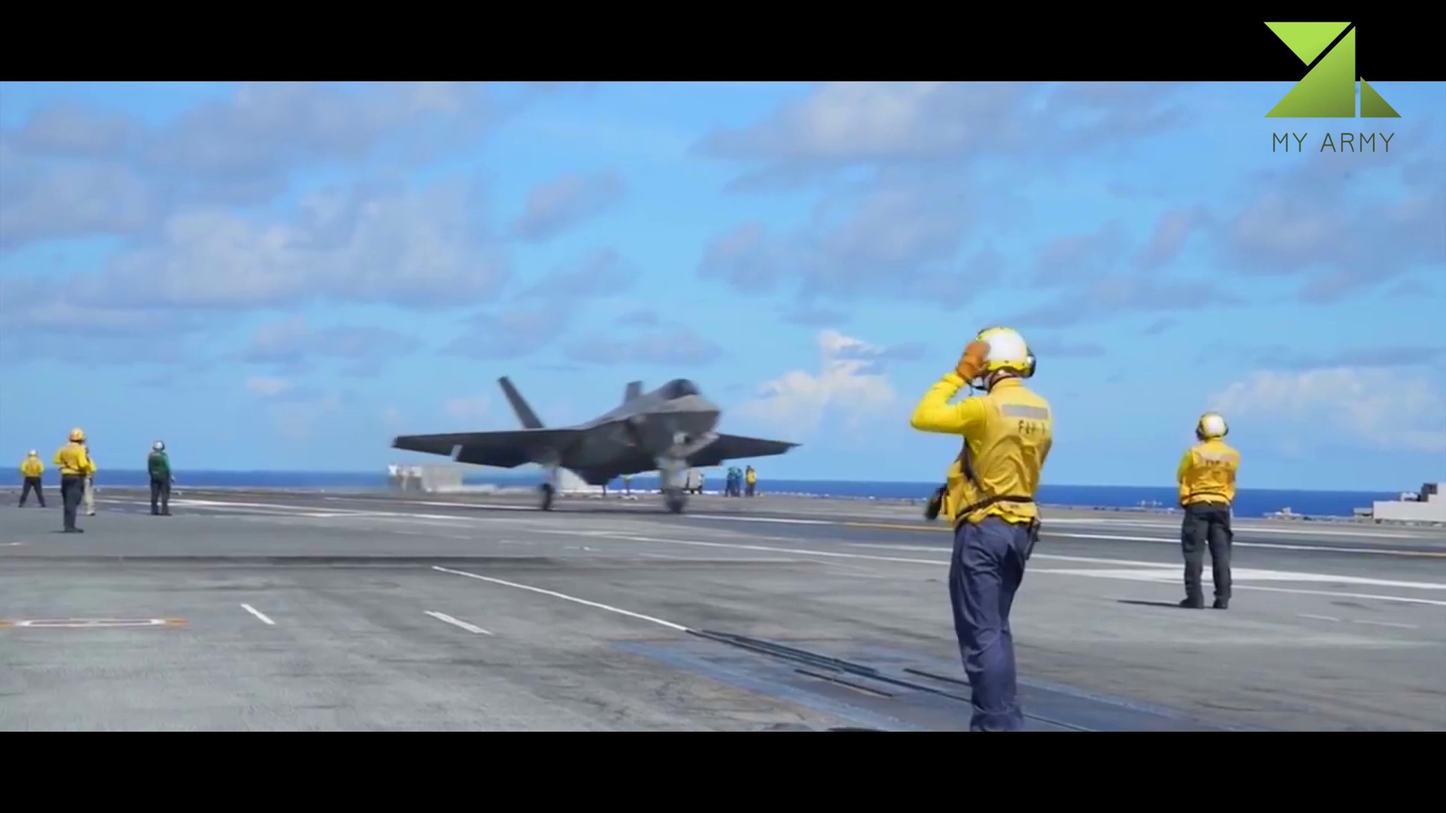F35: (386, 356, 805, 524)
